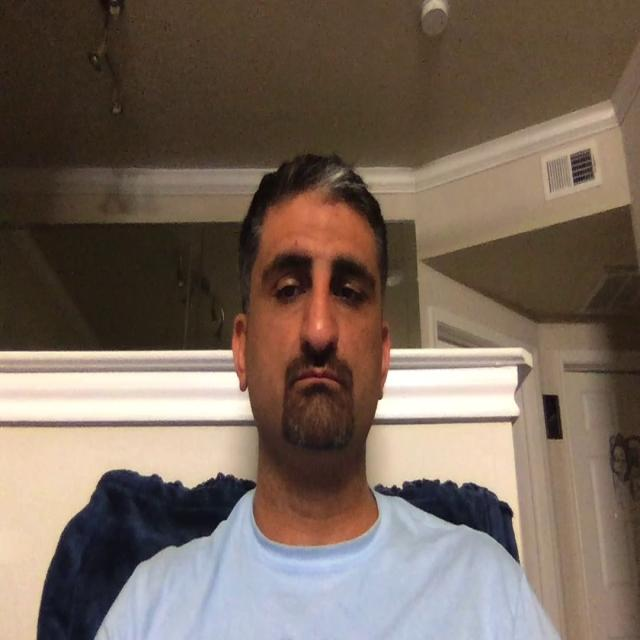sem_oculos: (238, 242, 394, 331)
